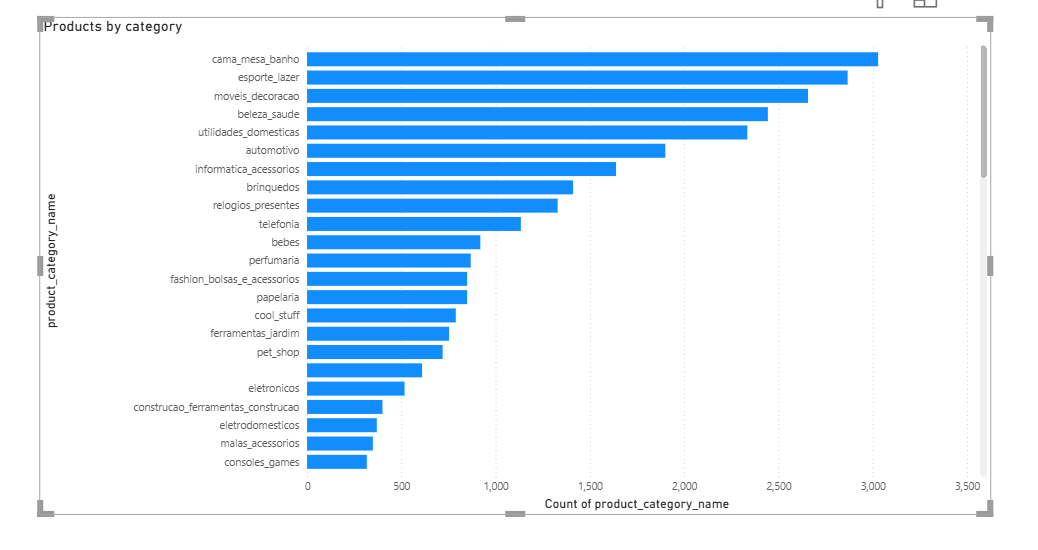

The dashboard page shown, as its layout file describes it:
{"tool":"powerbi","page":{"name":"Page 1","canvas":[1280,720],"ordinal":0},"visuals":[{"type":"barChart","title":"Products by category","fields":{"Category":["olist_products_dataset.product_category_name"],"Y":["CountNonNull(olist_products_dataset.product_category_name)"]},"box":[95.1,74.2,1088.3,568.9],"z":0}]}

Visuals, with their boxes on the page's 1280x720 design canvas (x1, y1, x2, y2). These are canvas units, not pixel positions in the 1038x550 screenshot, which may show the page scaled, cropped or inside an application window:
"Products by category" barChart: box=[95, 74, 1183, 643]
